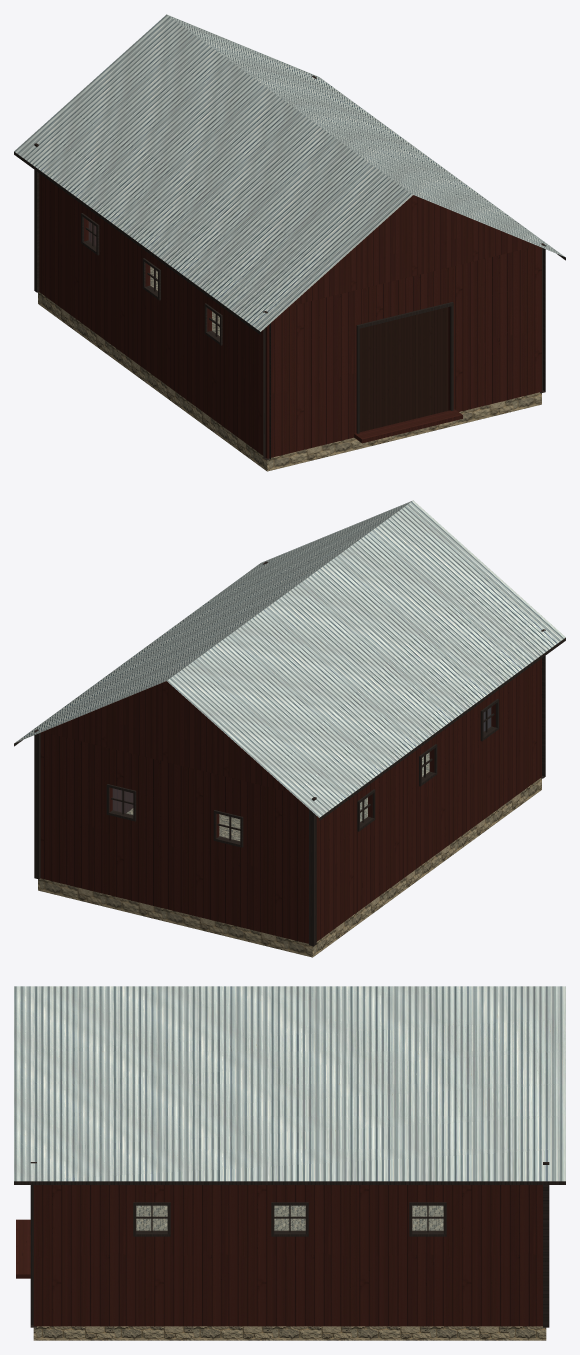
File: barn_01.glb
3 renders of one model, top to bottom at view 1: azimuth 30°, elevation 25°; view 2: azimuth 150°, elevation 25°; view 3: azimuth 270°, elevation 25°, orthographic. The views are drawn at different scales.
Parts seen in each view (by area): view 1: barn_01; view 2: barn_01; view 3: barn_01.
Boxes of the visible parts, x1=… form: barn_01: x1=14, y1=14, x2=565, y2=471; barn_01: x1=14, y1=500, x2=565, y2=957; barn_01: x1=14, y1=986, x2=565, y2=1340.
Bounding box in the file's own units: 10 × 7.81 × 14.
Materials: 6 (5 with a texture image).
